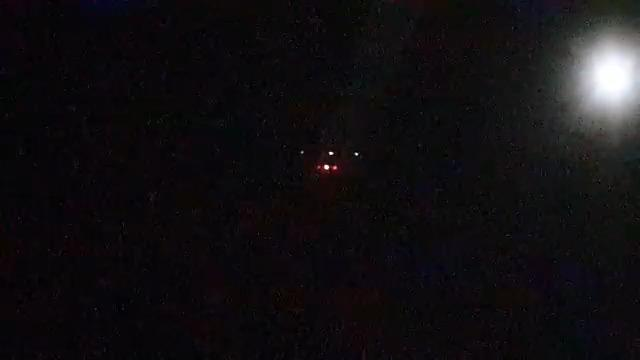Plane: (293, 111, 370, 186)
